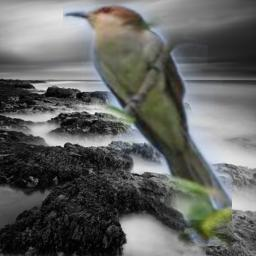Cuckoo: (63, 4, 232, 246)
